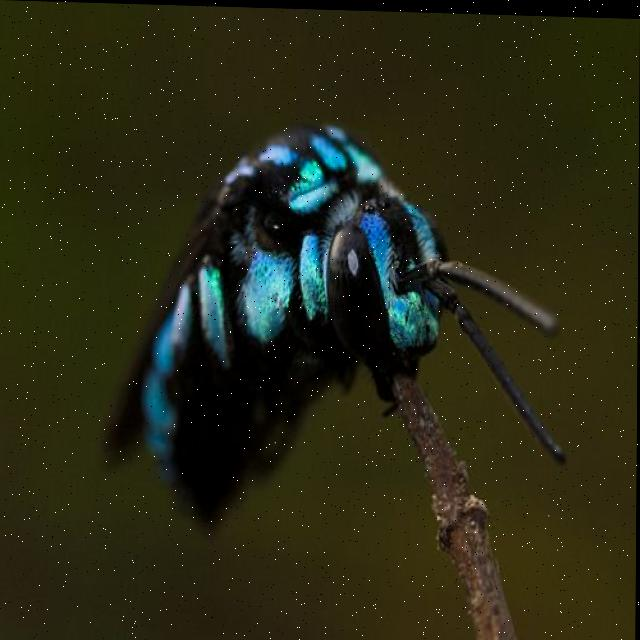Thyreus: (86, 99, 583, 557)
